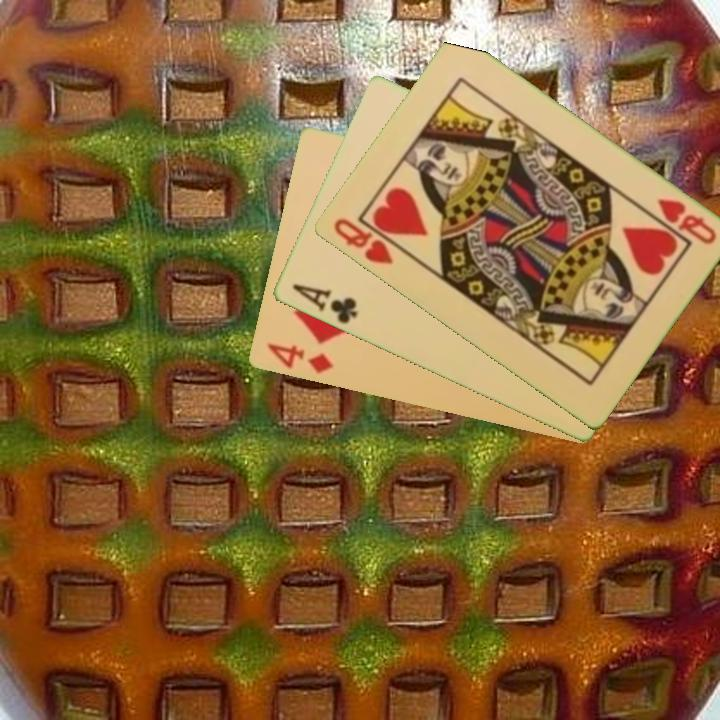4d: (262, 340, 336, 377)
Ac: (288, 280, 360, 327)
Qh: (329, 214, 407, 268), (653, 195, 719, 248)
